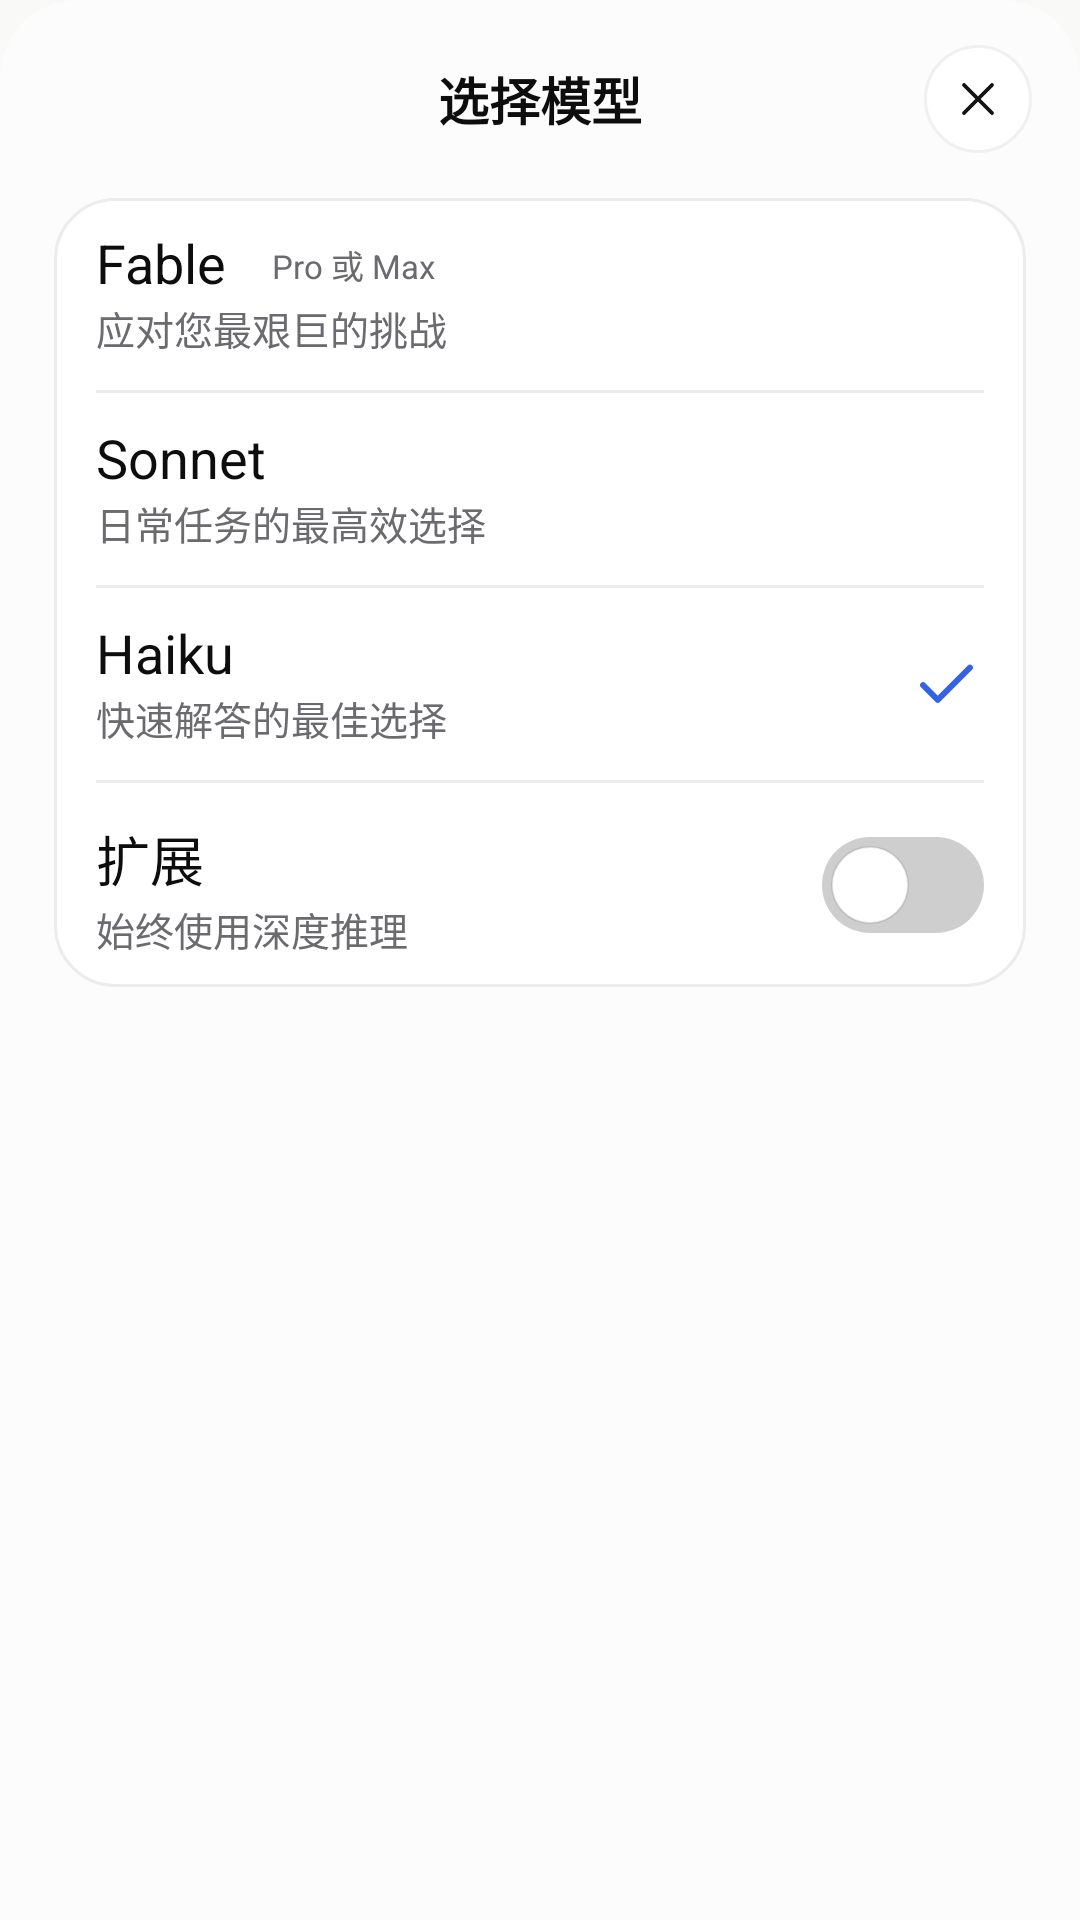

Icon bounding boxes for this 1080px x 1920px phone screenshot, format region(x1, y1, x2, y2):
check: region(920, 664, 973, 703)
关闭: region(962, 83, 994, 115)
